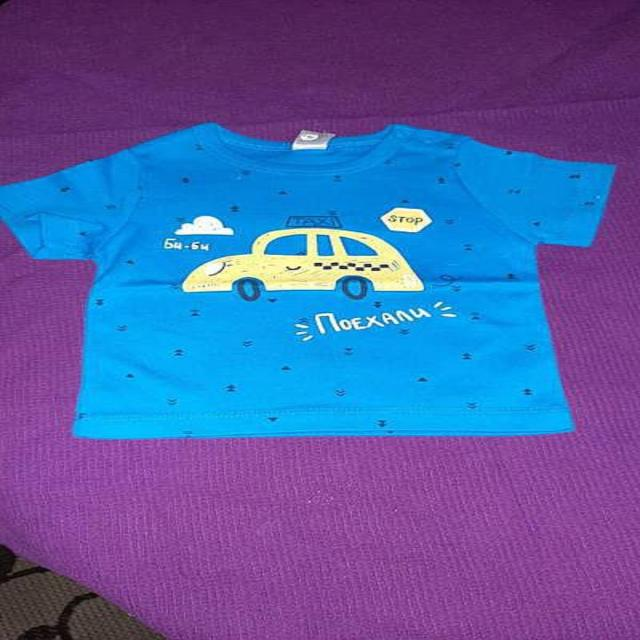T_SHIRT: (2, 112, 640, 448)
